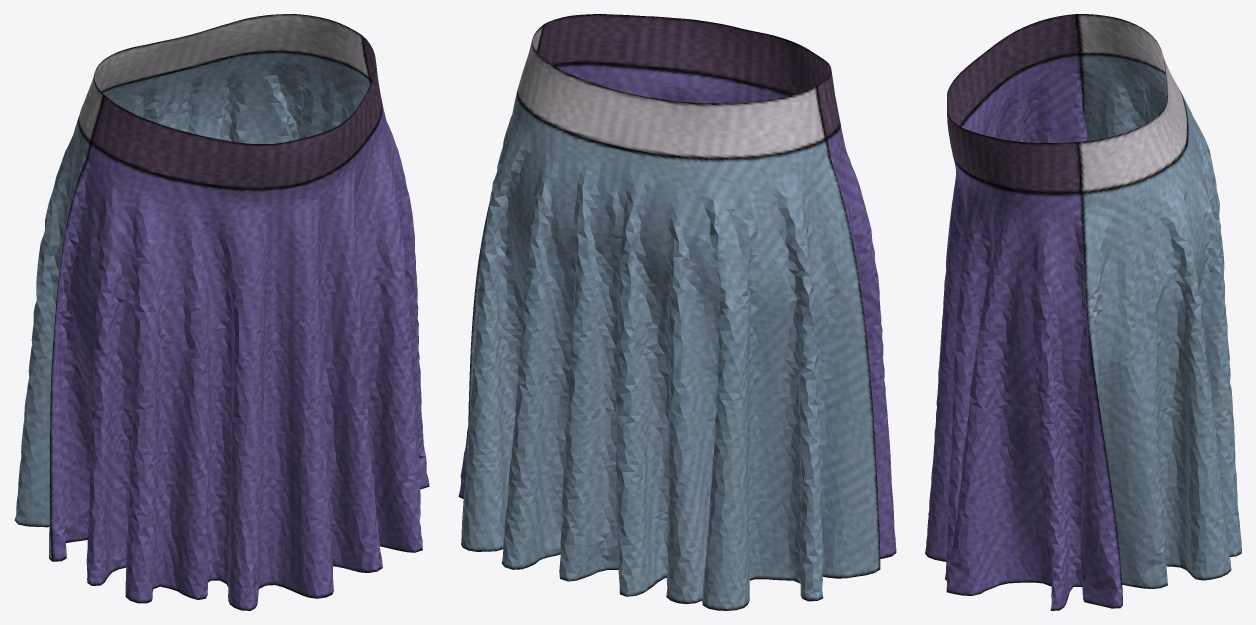
The model's file is valid_garment_lower_sim.obj.
The picture shows the model from 3 angles, left to right: view 1: azimuth 30°, elevation 25°; view 2: azimuth 150°, elevation 25°; view 3: azimuth 270°, elevation 25°; orthographic projection. The views are drawn at different scales.
Bounding box in the file's own units: 47.01 × 57.92 × 35.19.
Materials: 1 (1 with a texture image).
